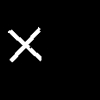single_crochet: (8, 27, 40, 61)
